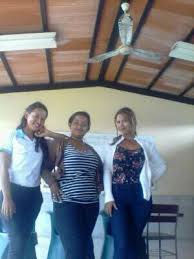person: (5, 92, 45, 181), (104, 97, 152, 167), (61, 89, 104, 167)
